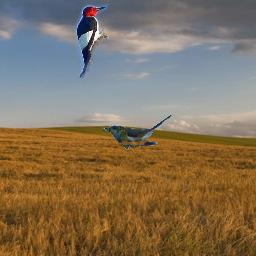Cuckoo: (102, 114, 174, 150)
Woodpecker: (70, 1, 110, 78)
